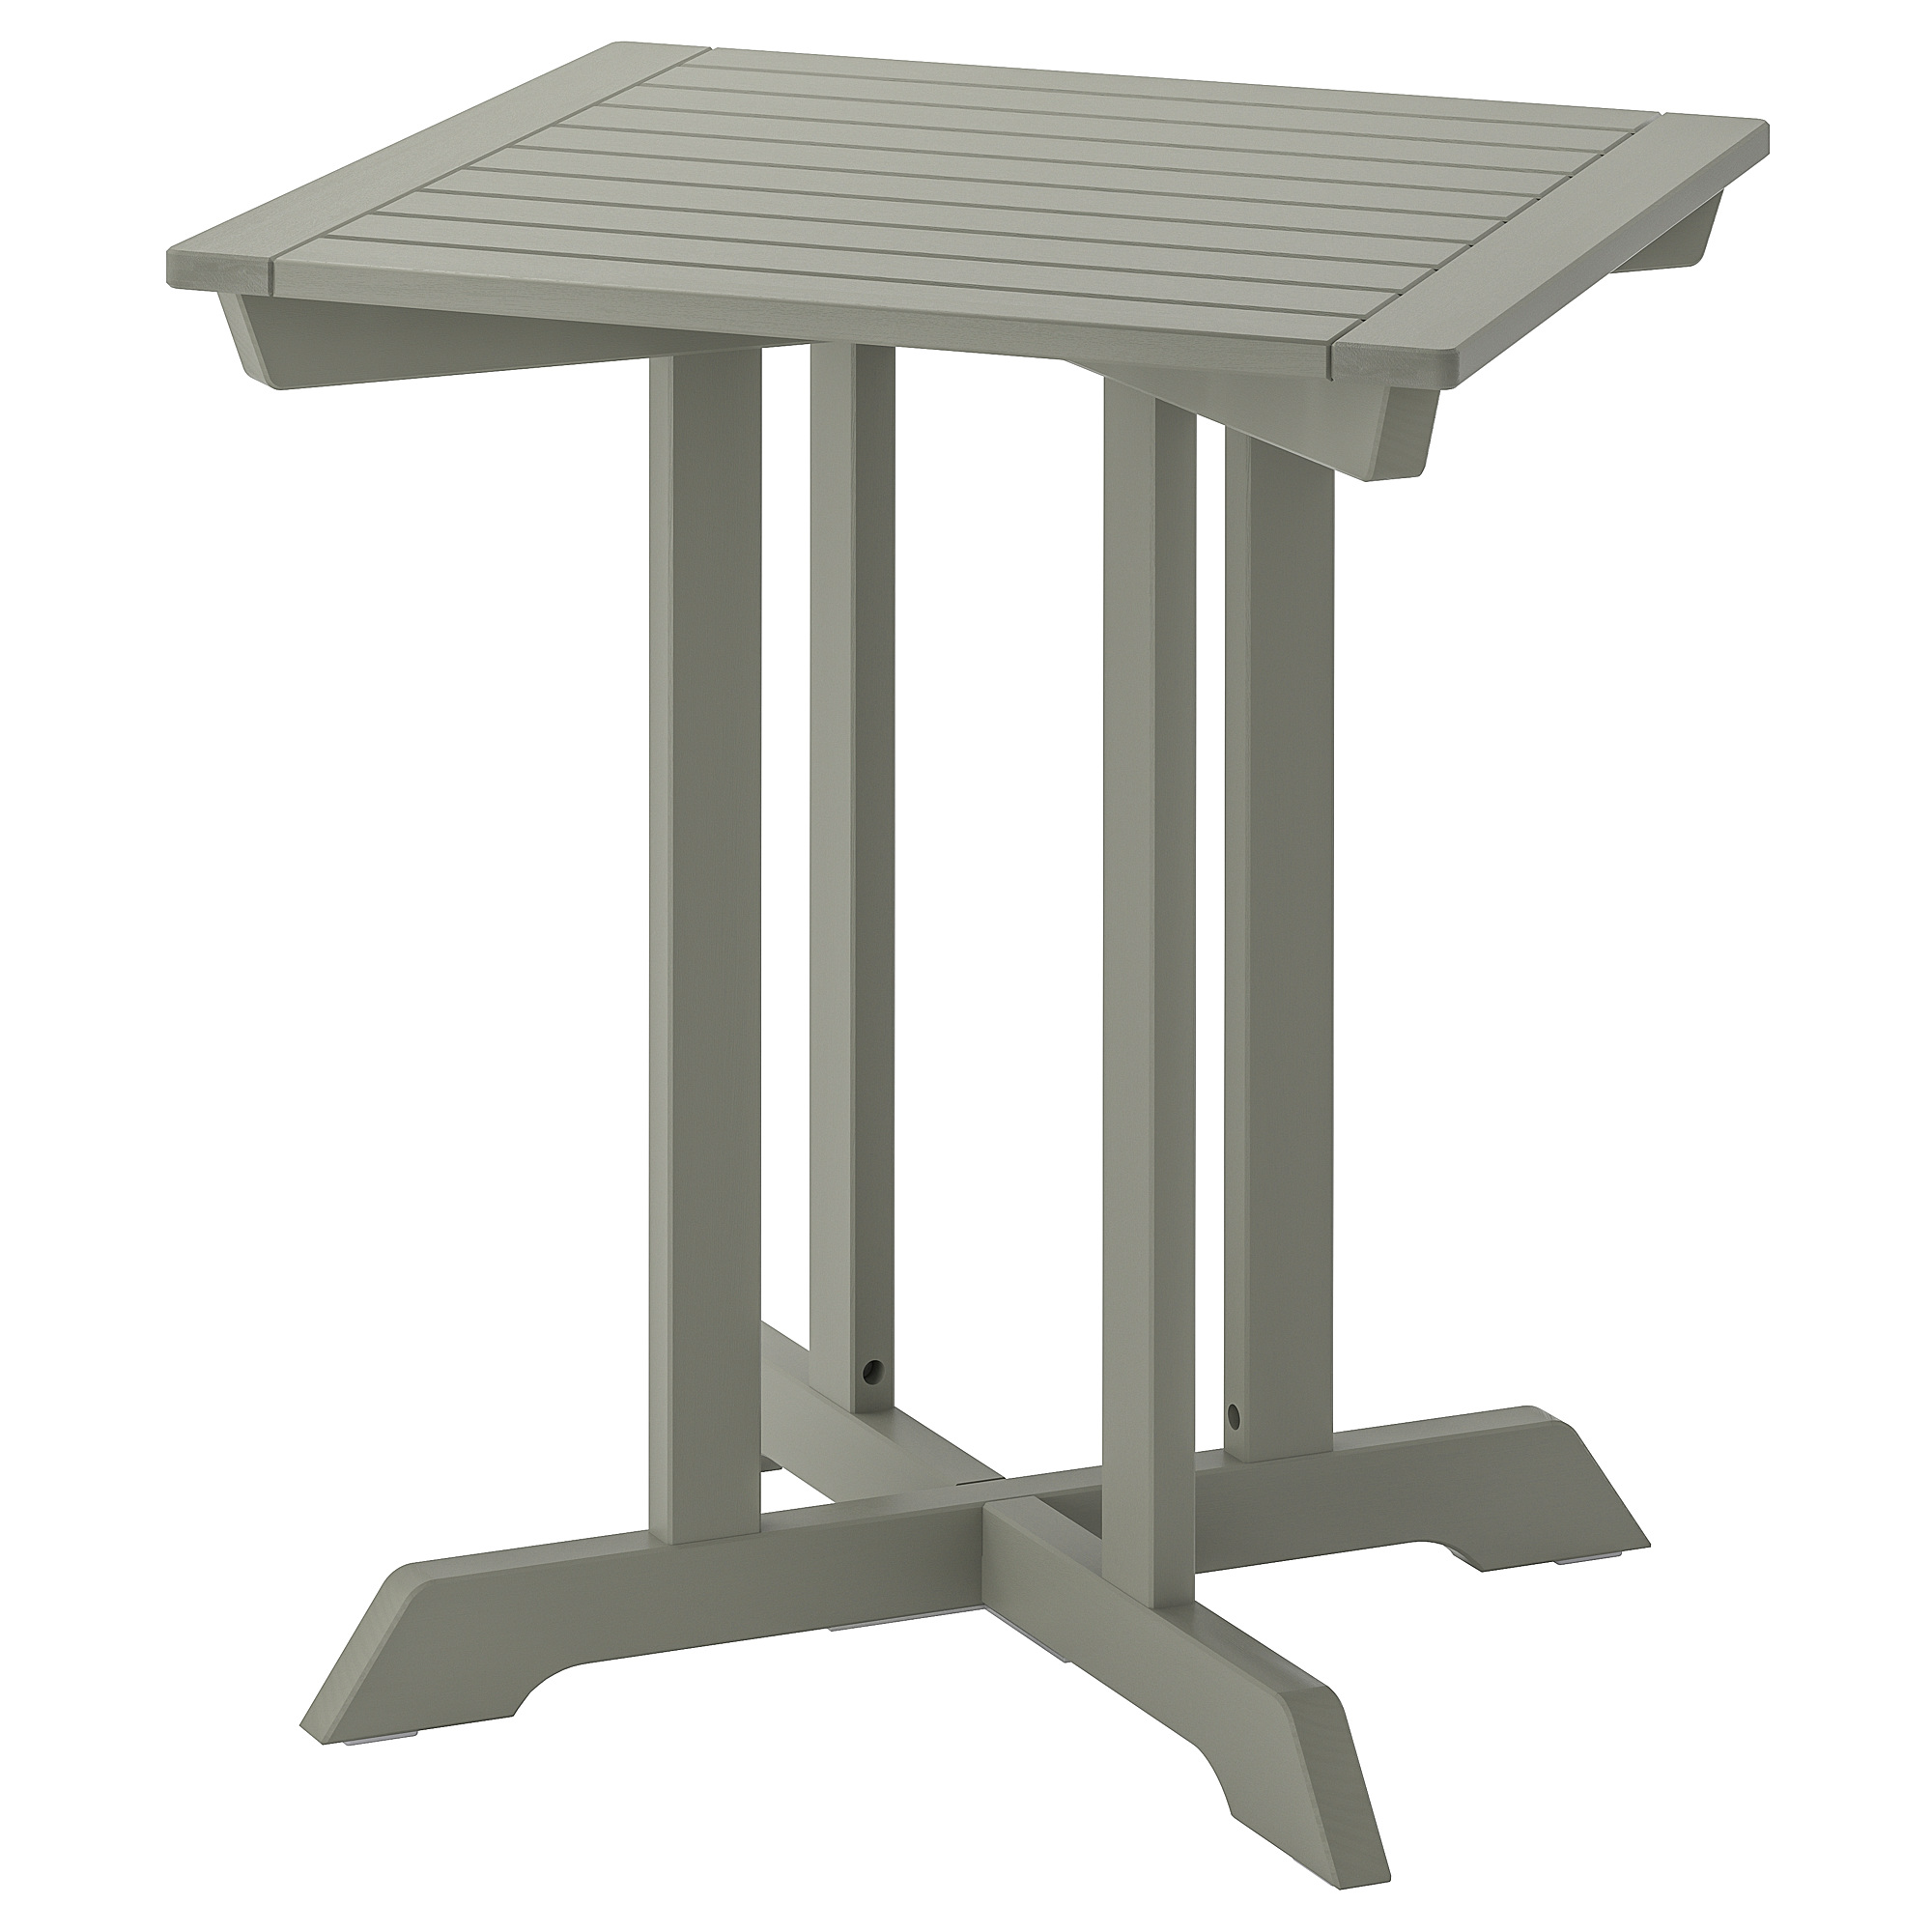meja: (119, 2, 1803, 1902)
